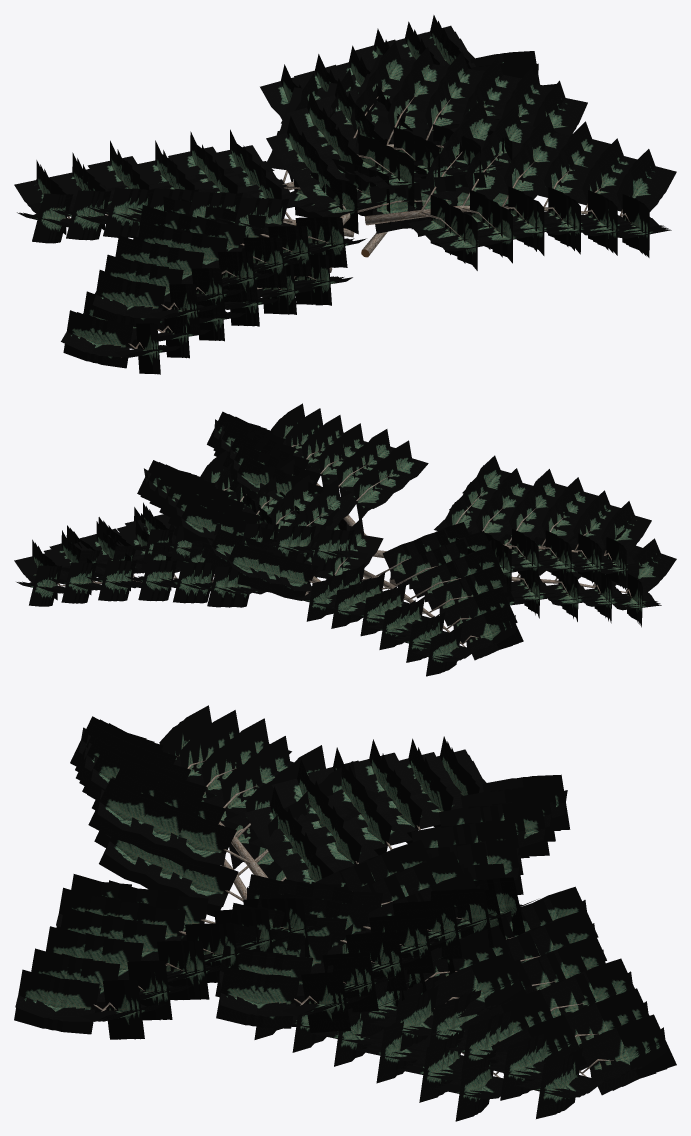
The model's file is SS_Brash_Green_01_LOD0.fbx.
The picture shows the model from 3 angles, top to bottom: view 1: azimuth 30°, elevation 25°; view 2: azimuth 150°, elevation 25°; view 3: azimuth 270°, elevation 25°; orthographic projection. The views are drawn at different scales.
Parts seen in each view (by area): view 1: SS_Brash_Green_01_LOD0_Foliage, SS_Brash_Green_01_LOD0_Structure; view 2: SS_Brash_Green_01_LOD0_Foliage, SS_Brash_Green_01_LOD0_Structure; view 3: SS_Brash_Green_01_LOD0_Foliage, SS_Brash_Green_01_LOD0_Structure.
Part boxes in pixels (box(x1,y1,x2,y2)): SS_Brash_Green_01_LOD0_Foliage: box(14, 15, 676, 374); SS_Brash_Green_01_LOD0_Structure: box(67, 88, 630, 357); SS_Brash_Green_01_LOD0_Foliage: box(14, 403, 676, 676); SS_Brash_Green_01_LOD0_Structure: box(57, 444, 631, 646); SS_Brash_Green_01_LOD0_Foliage: box(14, 705, 676, 1121); SS_Brash_Green_01_LOD0_Structure: box(93, 756, 613, 1077).
Size of the model in its own units: 667 by 136 by 514.
3 materials, 3 textured.
